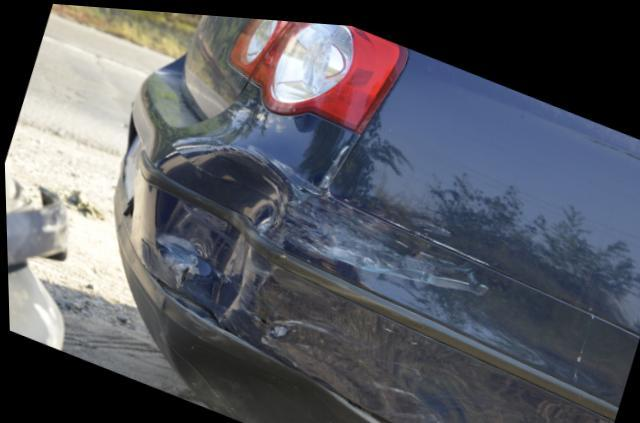dent: (141, 145, 287, 317), (263, 331, 429, 420), (168, 342, 337, 423)
scratch: (275, 177, 490, 292)
